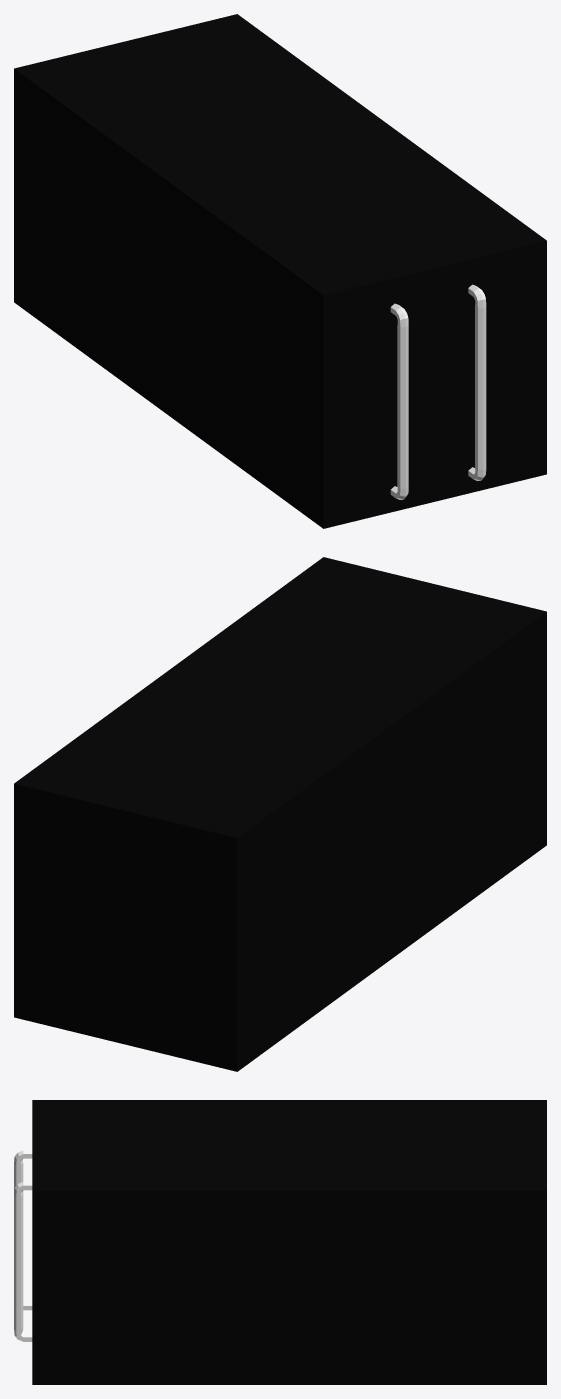
The model's file is Industrialcontainer.fbx.
3 renders of one model, top to bottom at view 1: azimuth 30°, elevation 25°; view 2: azimuth 150°, elevation 25°; view 3: azimuth 270°, elevation 25°, orthographic. The views are drawn at different scales.
Parts seen in each view (by area): view 1: Cube.003; view 2: Cube.003; view 3: Cube.003.
Boxes of the visible parts, bbox=[...] form: Cube.003: bbox=[14, 14, 546, 528]; Cube.003: bbox=[14, 557, 546, 1071]; Cube.003: bbox=[14, 1100, 546, 1384].
Size of the model in its own units: 750 by 750 by 1864.
1 material, 1 textured.
